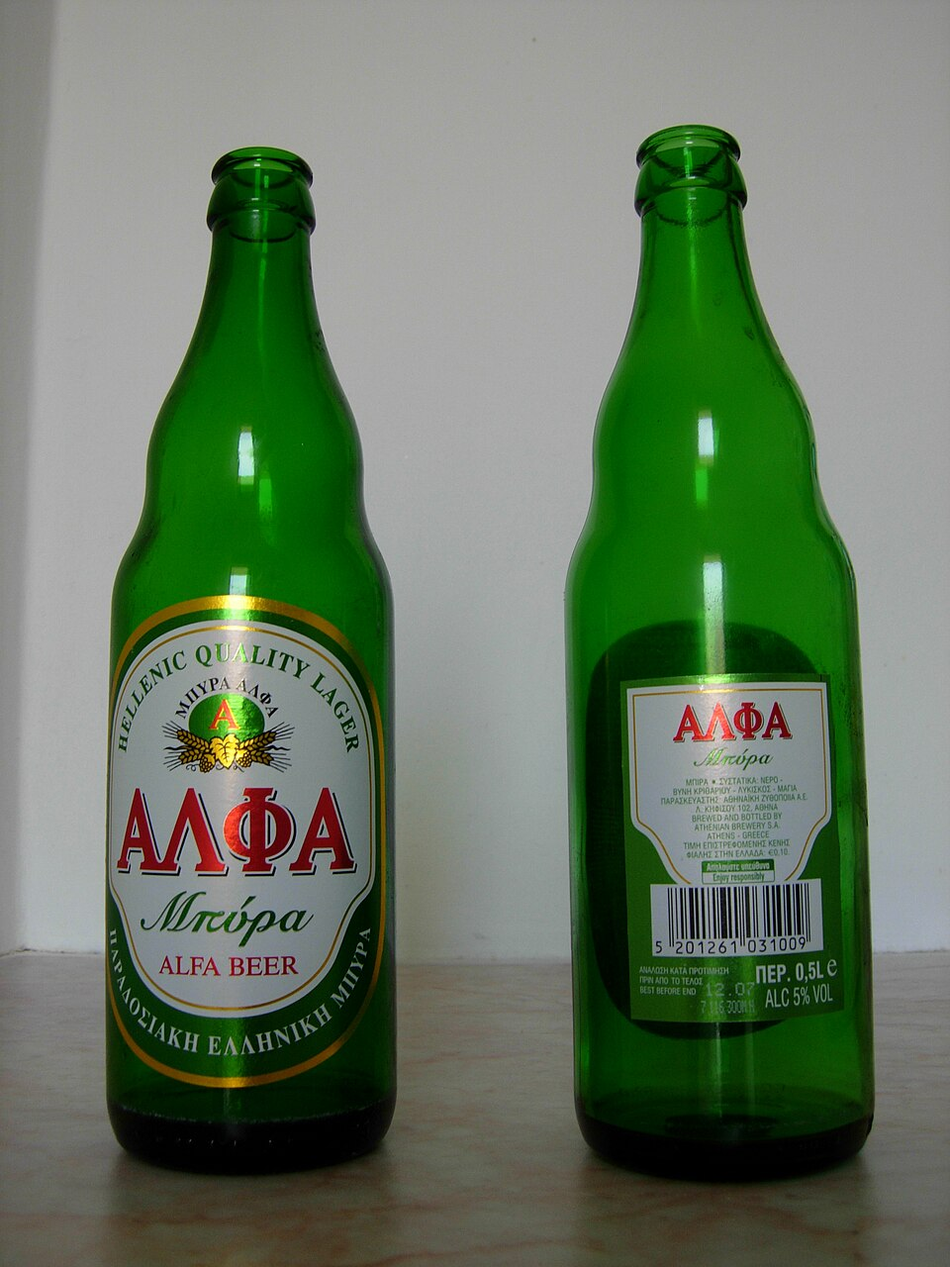beer-bottle: (555, 111, 880, 1180), (91, 132, 408, 1196)
